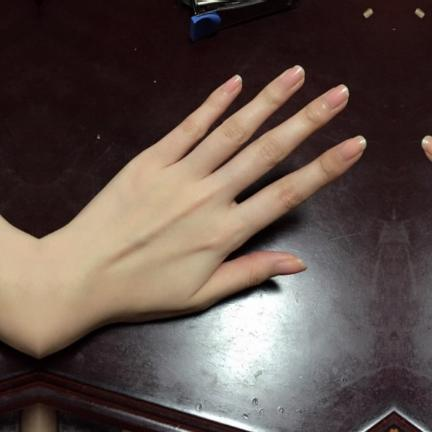Nail: (338, 134, 366, 162), (321, 83, 348, 107), (277, 257, 307, 274), (281, 65, 303, 85), (218, 75, 241, 93), (420, 134, 432, 157)
